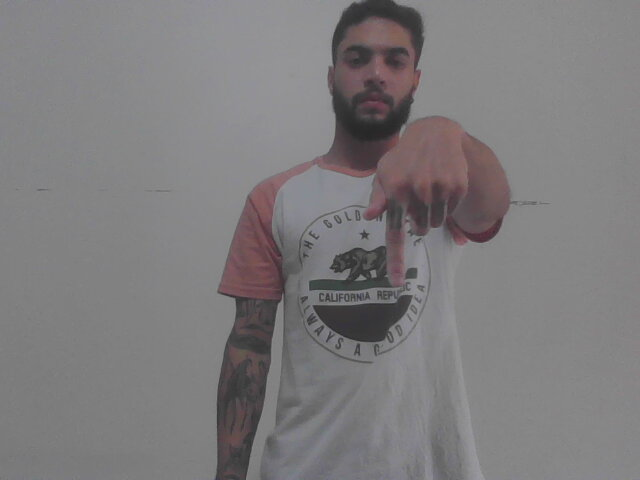q: (366, 114, 476, 294)
